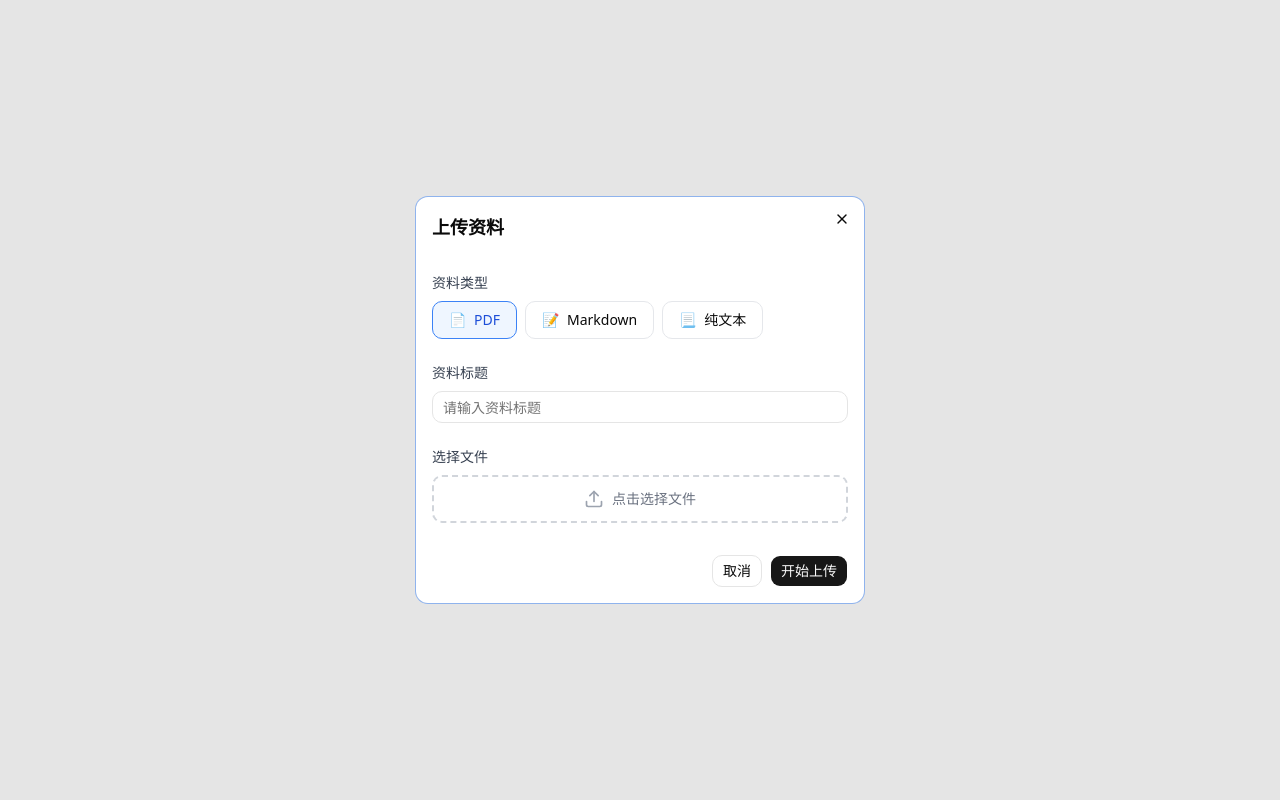
Scenario: UploadDialog › form validation › should require title before upload
Note: Click upload without entering title
Click the button "开始上传": point(809, 571) x1=770 y1=555 x2=848 y2=587
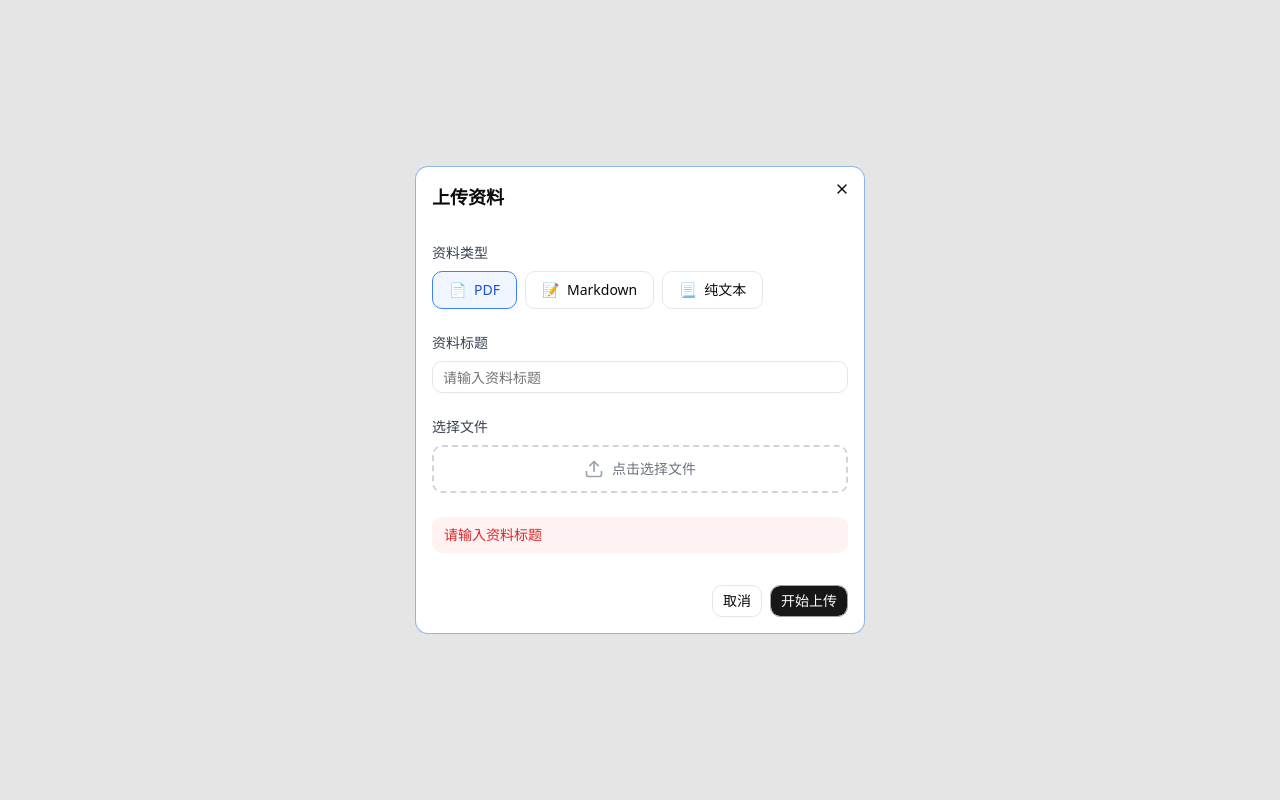
Expected: the text "请输入资料标题" is shown, x1=432 y1=517 x2=848 y2=553
